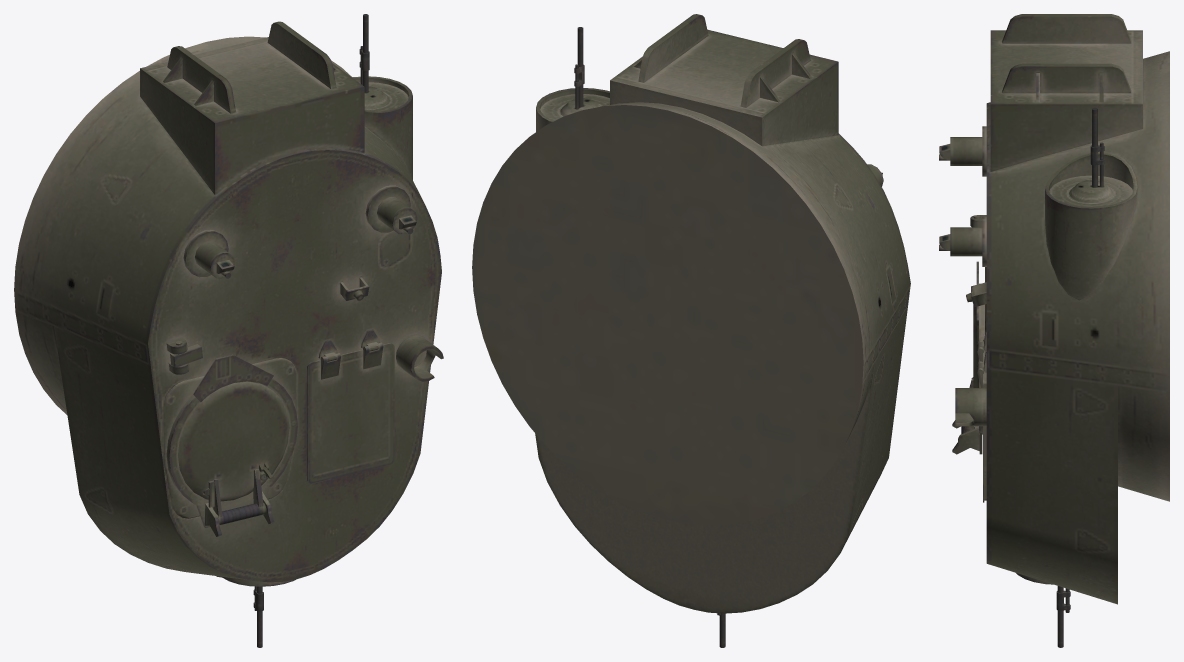
File: Turret_02.glb
3 views of the same model, side by side, from view 1: azimuth 30°, elevation 25°; view 2: azimuth 150°, elevation 25°; view 3: azimuth 270°, elevation 25° (orthographic).
Visible parts, largest first — view 1: set_0_group_0; view 2: set_0_group_0; view 3: set_0_group_0.
Boxes of the visible parts, bbox=[...] form: set_0_group_0: bbox=[14, 14, 443, 647]; set_0_group_0: bbox=[472, 14, 910, 647]; set_0_group_0: bbox=[939, 14, 1169, 647].
Size of the model in its own units: 1.79 by 2.65 by 0.9161.
1 material, 1 textured.
